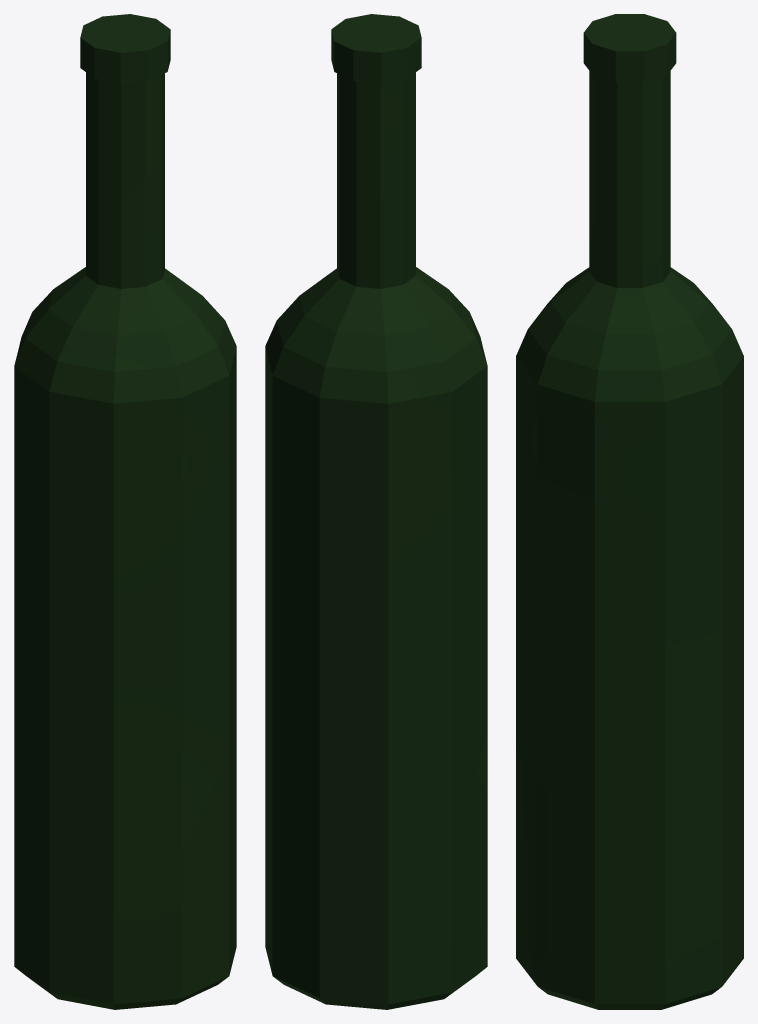
The model's file is bottle_0.fbx.
3 renders of one model, left to right at view 1: azimuth 30°, elevation 25°; view 2: azimuth 150°, elevation 25°; view 3: azimuth 270°, elevation 25°, orthographic.
Visible parts, largest first — view 1: bottle_0; view 2: bottle_0; view 3: bottle_0.
Boxes of the visible parts, <box> form: bottle_0: <box>14,14,236,1009</box>; bottle_0: <box>265,14,487,1009</box>; bottle_0: <box>516,14,743,1009</box>.
Size of the model in its own units: 0.0752 by 0.3582 by 0.079.
